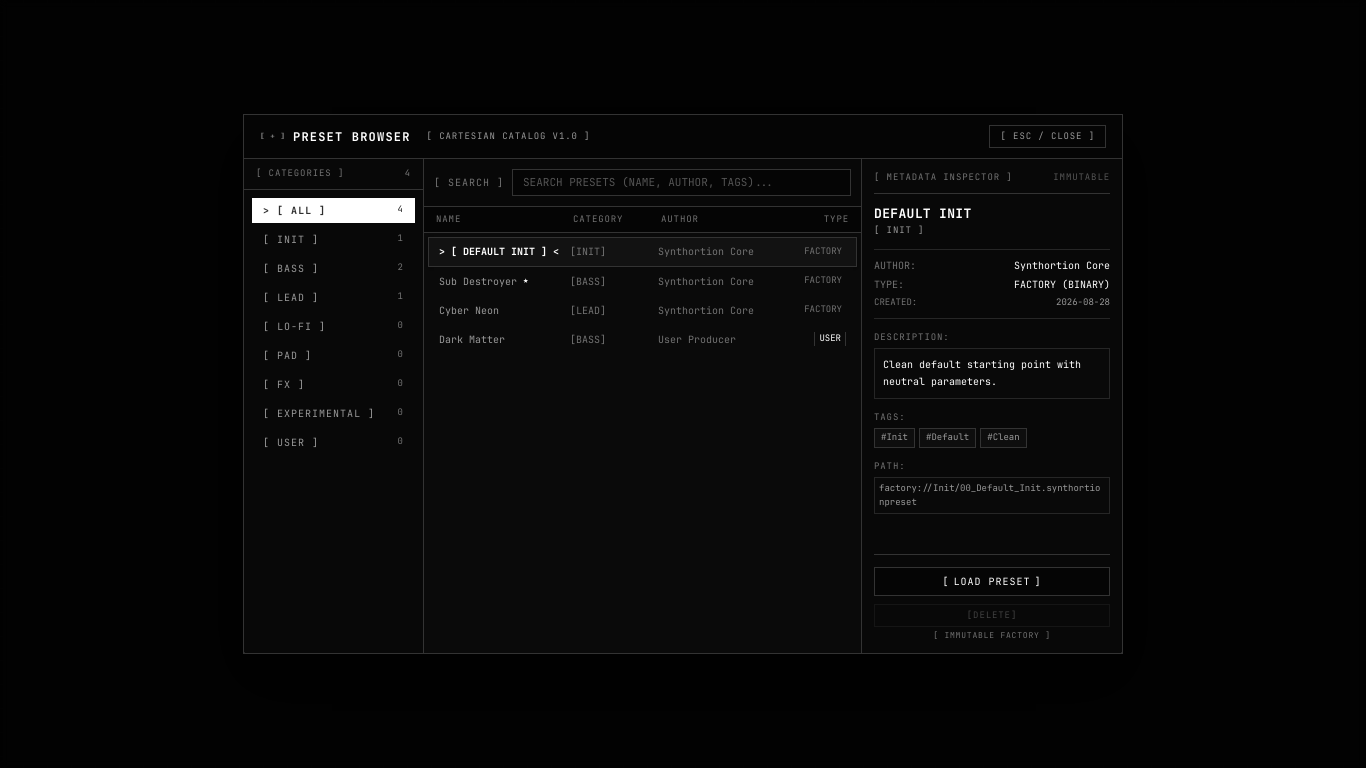
Test: PresetBrowserModal › filters presets by category when a category button is clicked
expect the text "> [ DEFAULT INIT ] <" is shown: met, box [439, 244, 559, 259]
expect the text "Sub Destroyer" is shown: met, box [439, 274, 517, 288]
// Click BASS category
Click the button with aria-label "Category BASS". click: click(334, 268)
box: [252, 256, 415, 280]
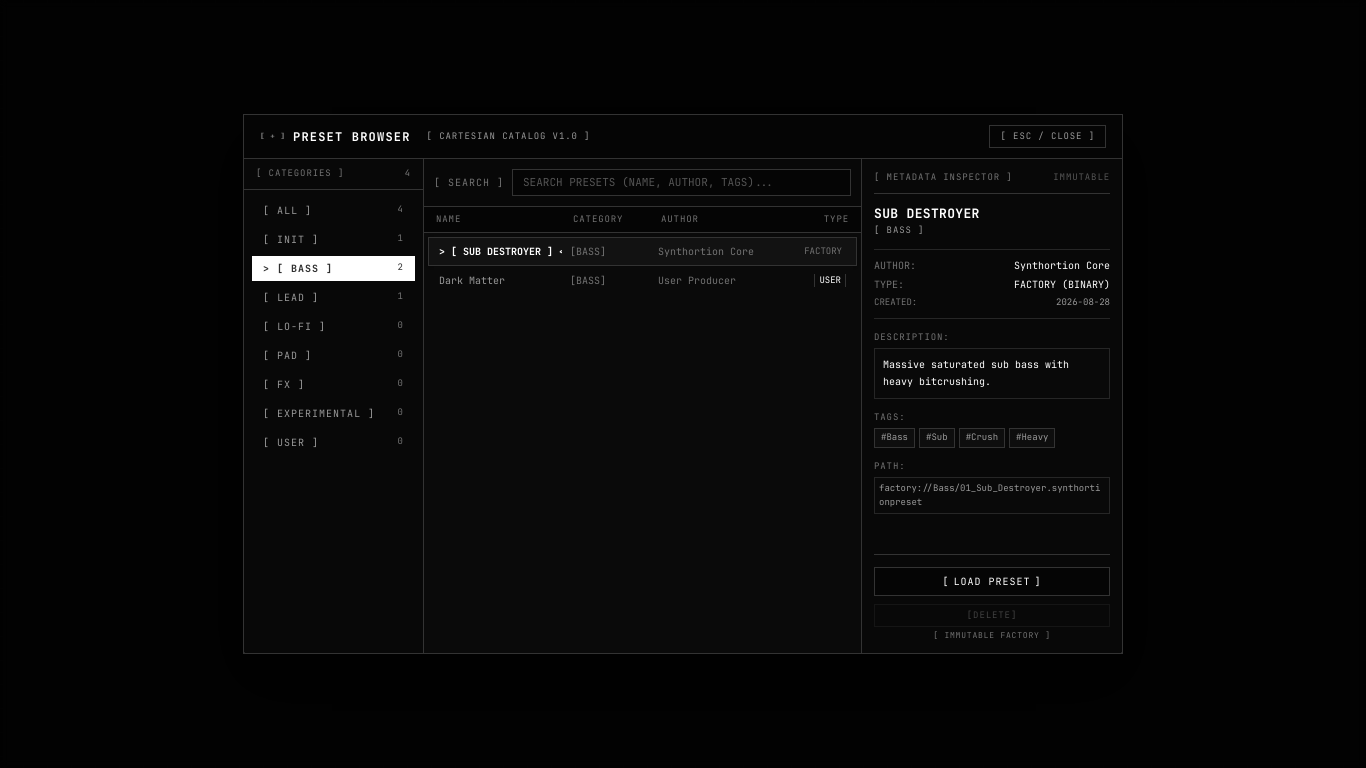
expect the text "> [ SUB DESTROYER ] <" is shown: met, box [439, 244, 562, 259]
expect the option "DEFAULT INIT" is gone: met
expect the option "Cyber Neon" is gone: met
